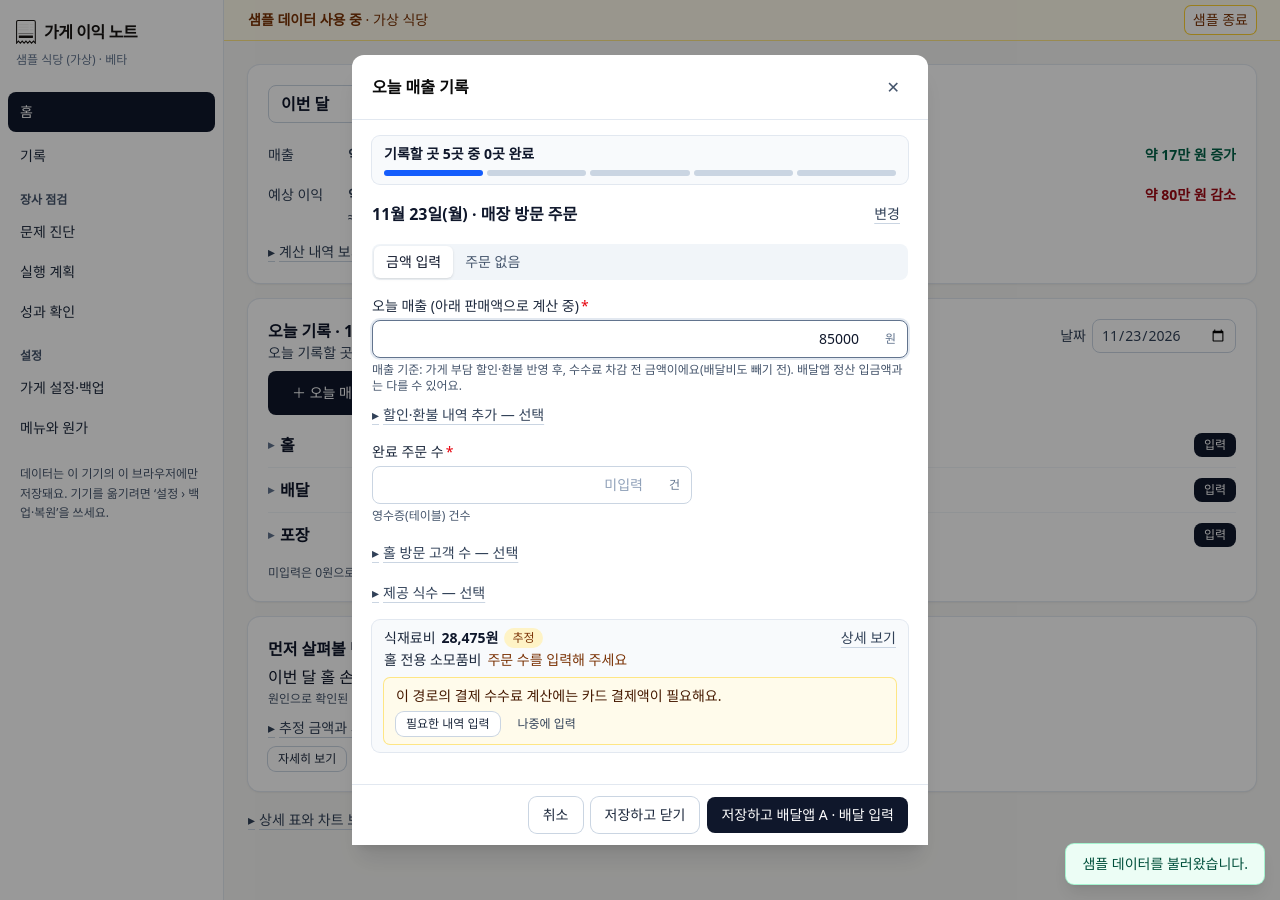
Test: 앱 스모크 테스트 › 전체 기록을 취소하면 저장 데이터가 바뀌지 않는다
Earlier steps of the test are not shown.
Click the button "취소" at (556, 815), box x1=529 y1=797 x2=582 y2=833
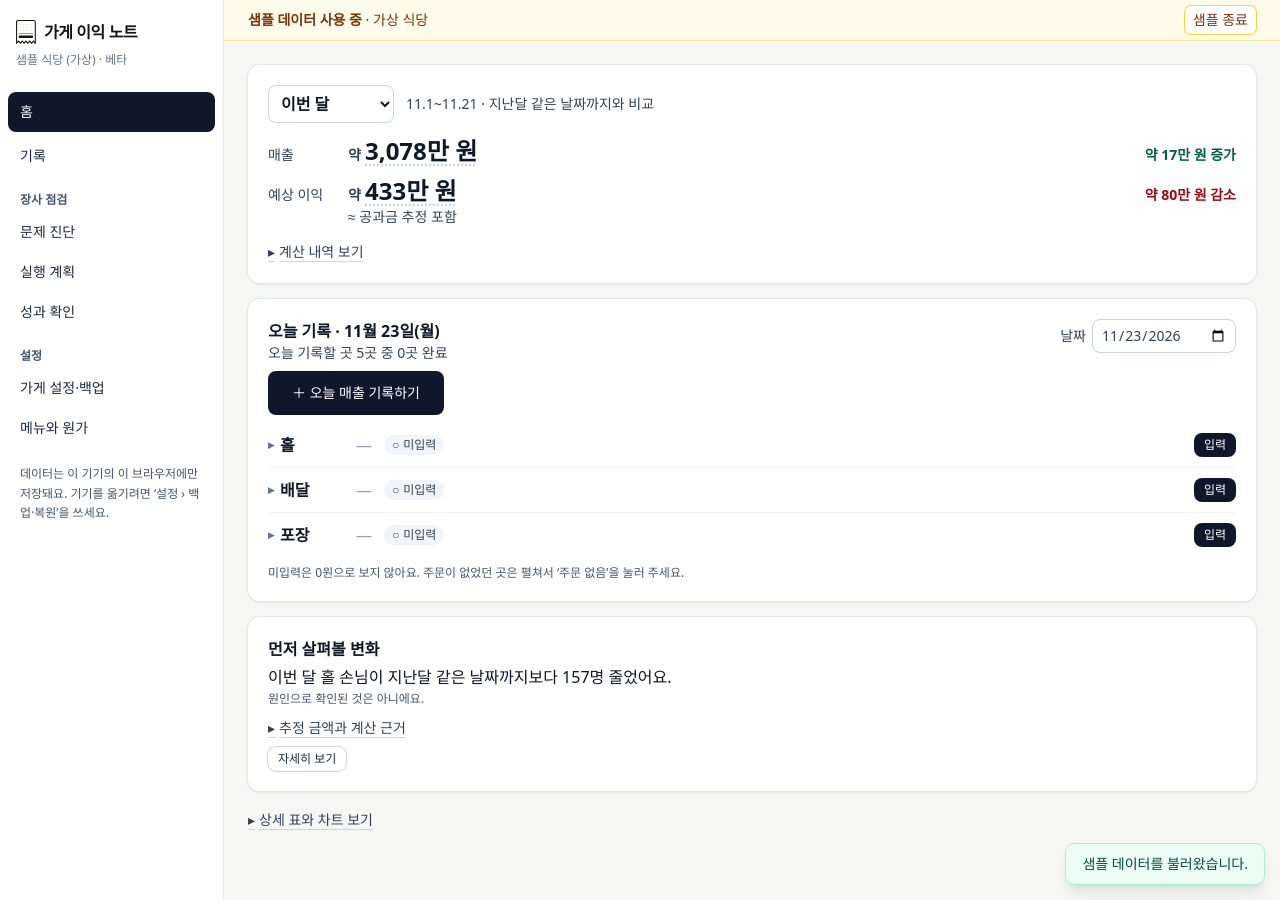
Check: the dialog is gone
